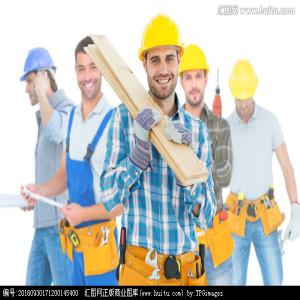blue: (23, 50, 57, 101)
none: (74, 37, 106, 102)
yellow: (140, 14, 184, 102), (178, 45, 212, 109), (226, 62, 260, 113)
